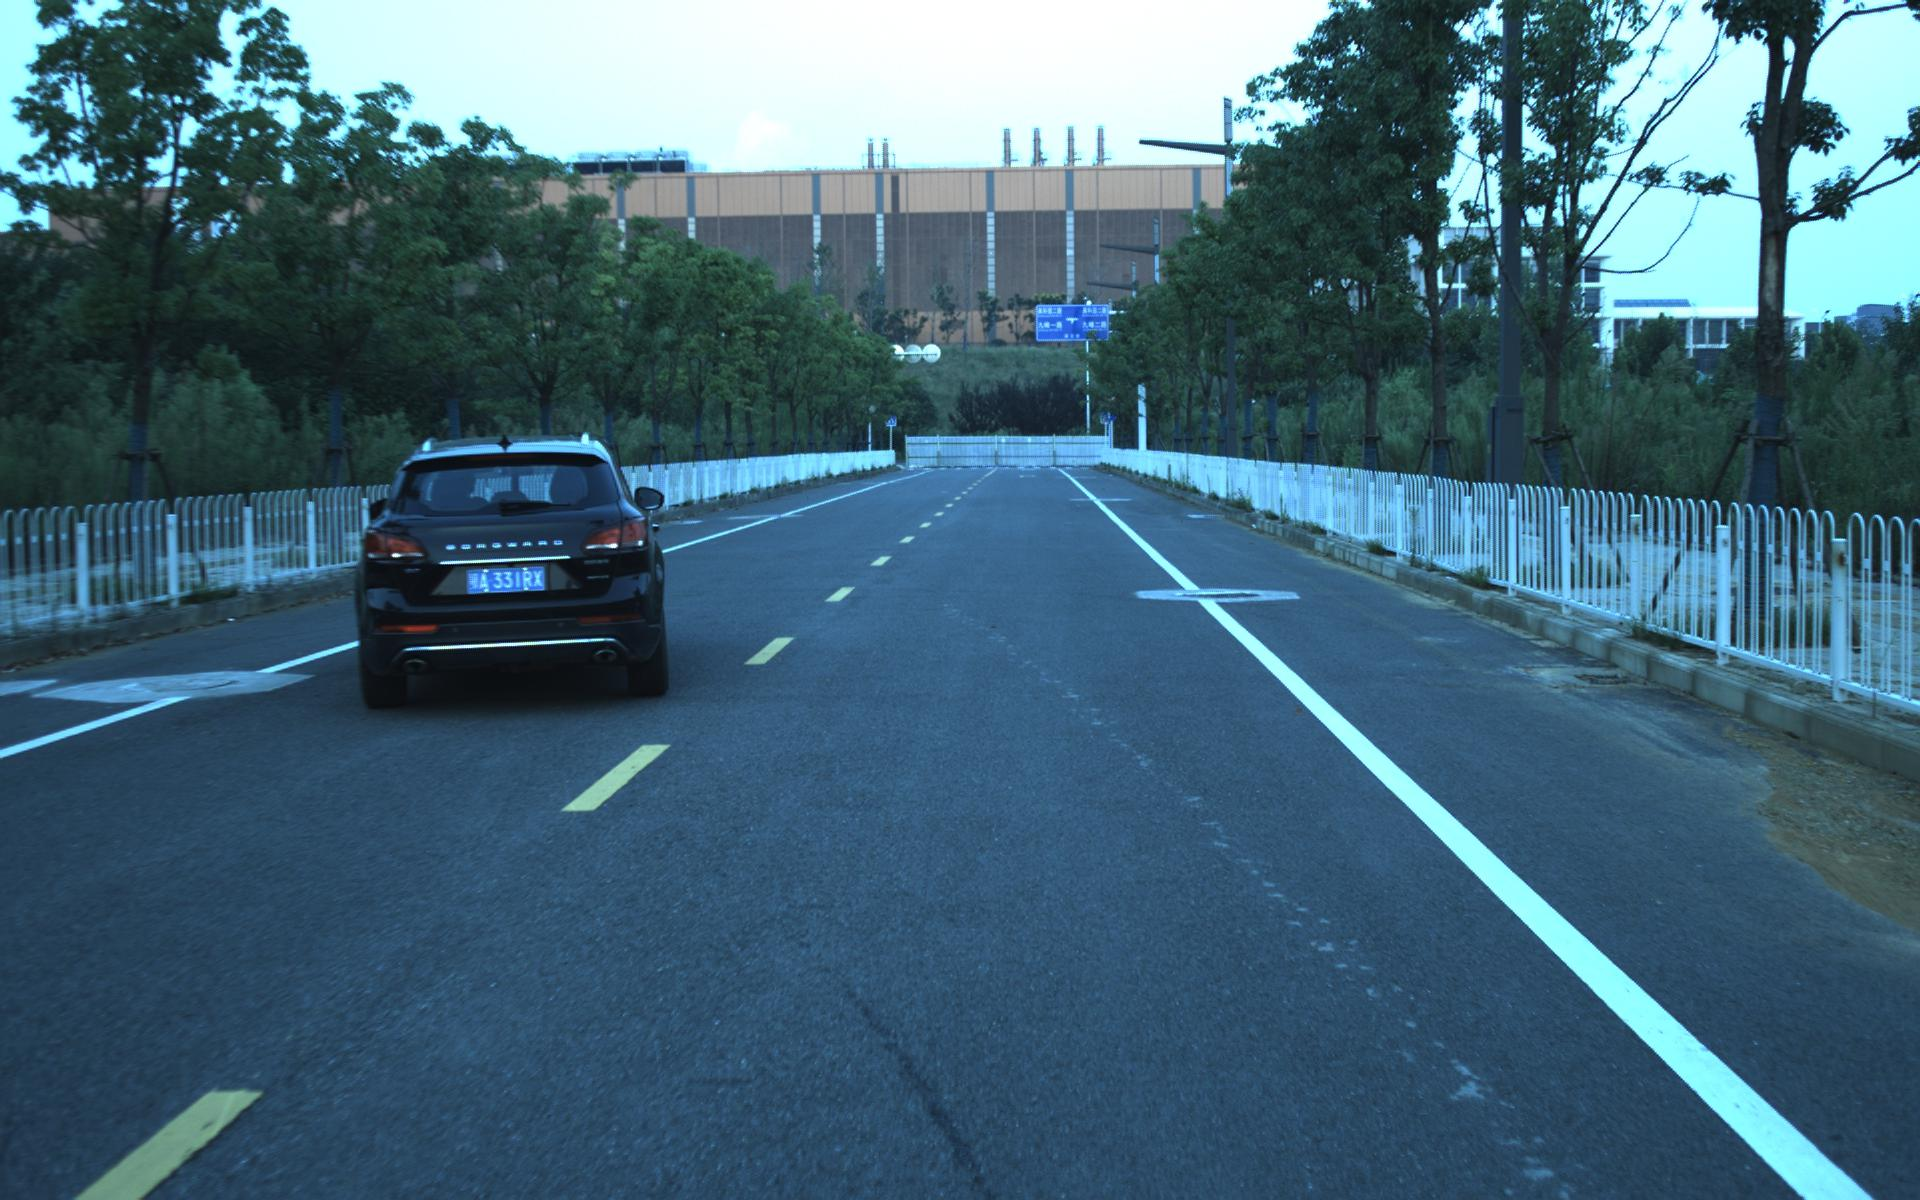Car: (341, 429, 677, 713)
